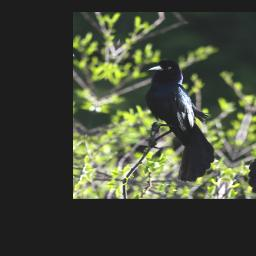Crow: (113, 55, 245, 185)
